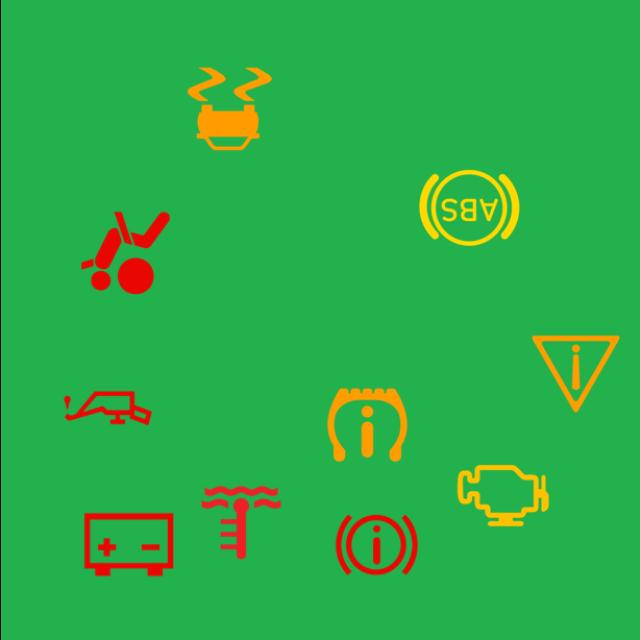Anti Lock Braking System: (414, 153, 524, 263)
Braking System Issue: (321, 490, 431, 600)
Charging System Issue: (72, 490, 182, 600)
Check Engine: (447, 440, 557, 550)
Electronic Stability Problem -ESP-: (174, 54, 284, 164)
Engine Overheating Warning Light: (186, 468, 296, 578)
Low Engine Oil Warning Light: (52, 353, 162, 463)
Low Tire Pressure Warning Light: (312, 370, 422, 480)
Master warning light: (520, 318, 630, 428)
SRS-Airbag: (70, 198, 180, 308)
